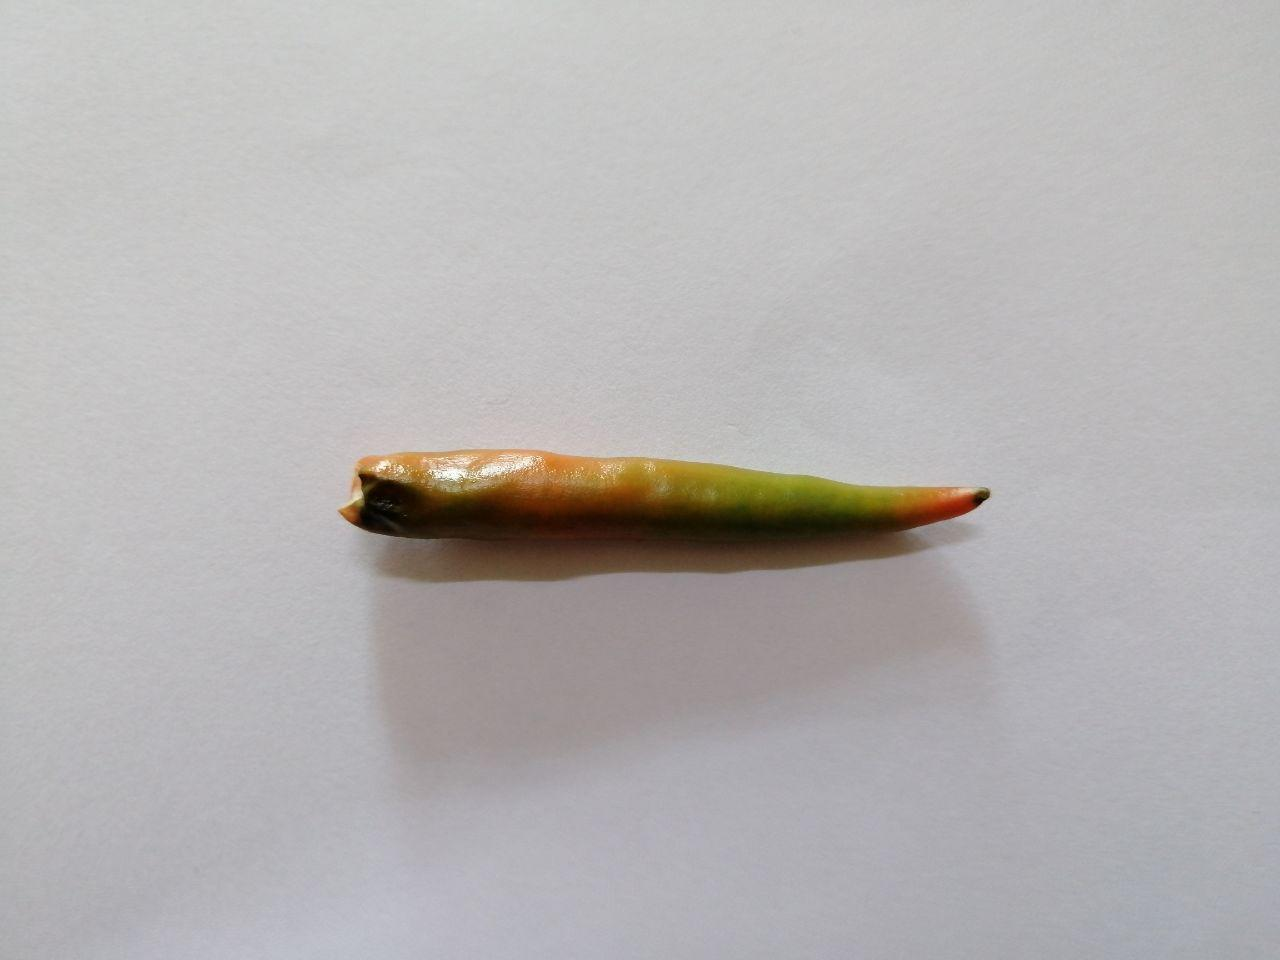lada kuning: (327, 434, 1012, 569)
